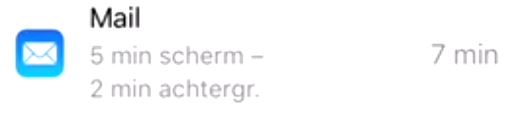name: (85, 4, 151, 30)
time: (85, 76, 156, 103), (84, 43, 156, 68)
